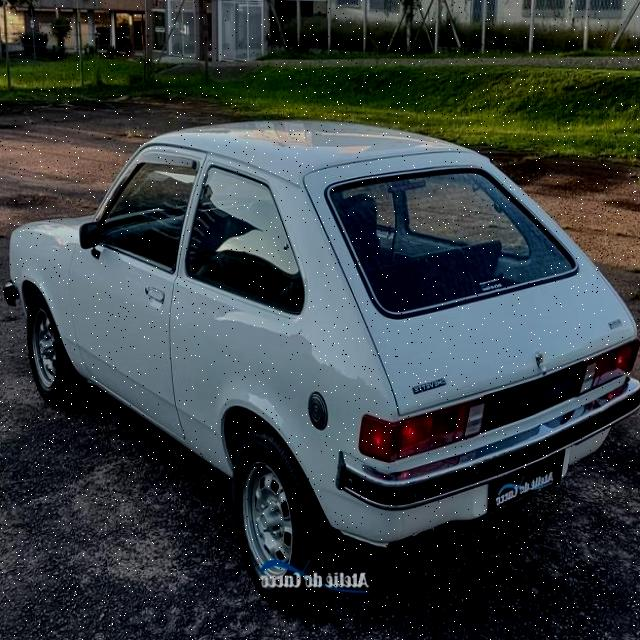car: (1, 113, 640, 607)
